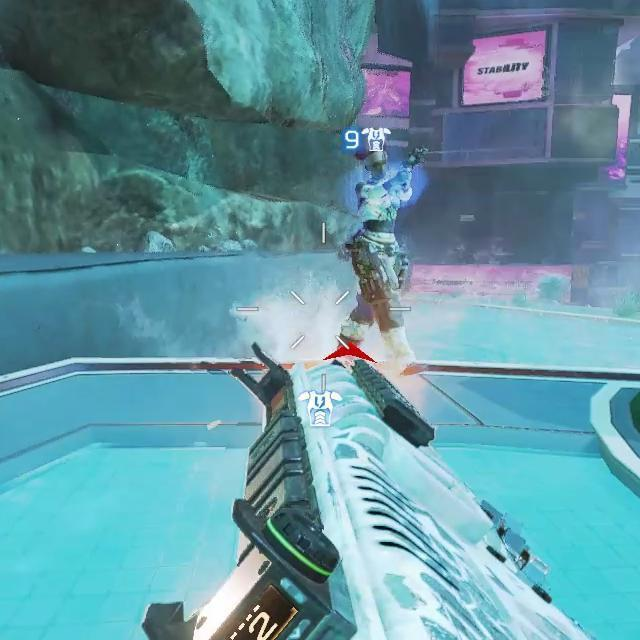avatar: (330, 145, 434, 375)
